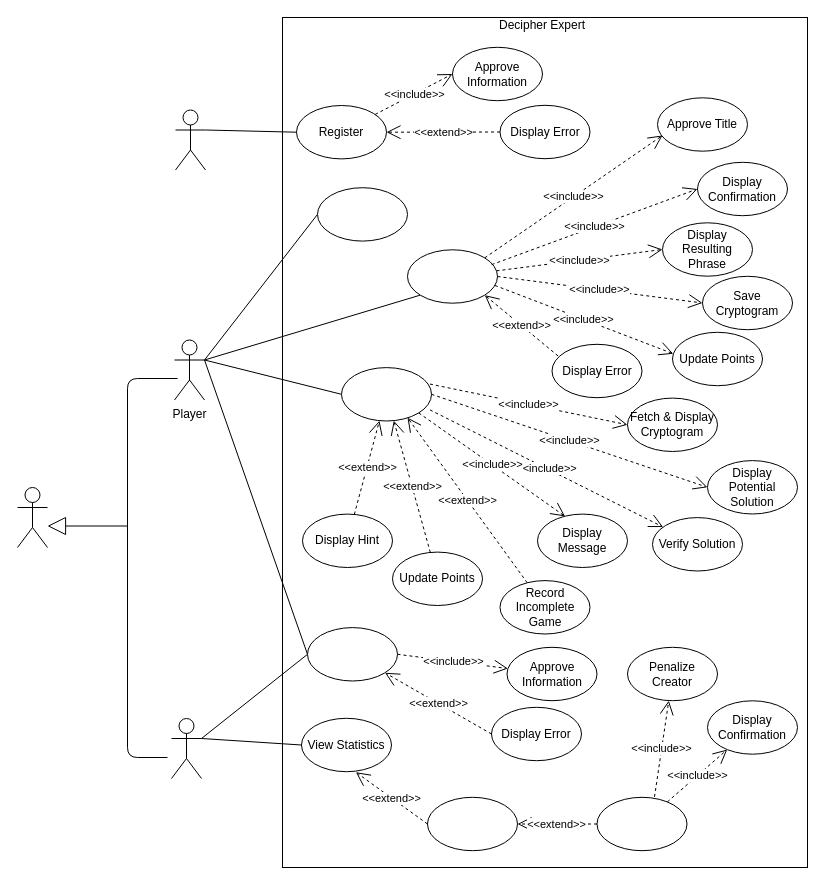
This 825x885 diagram has some shape labels left out. The centre of each missing label's shape, as x and y in pixels:
"Administrator" goes at [186,748].
"Create Cryptogram" goes at [452,276].
"Disable Cryptogram" goes at [641,823].
"Login" goes at [352,654].
"New User" goes at [190,139].
"Solve Cryptogram" goes at [386,394].
"User" goes at [32,517].
"View Cryptogram" goes at [472,823].
"View Scores" goes at [362,214].
